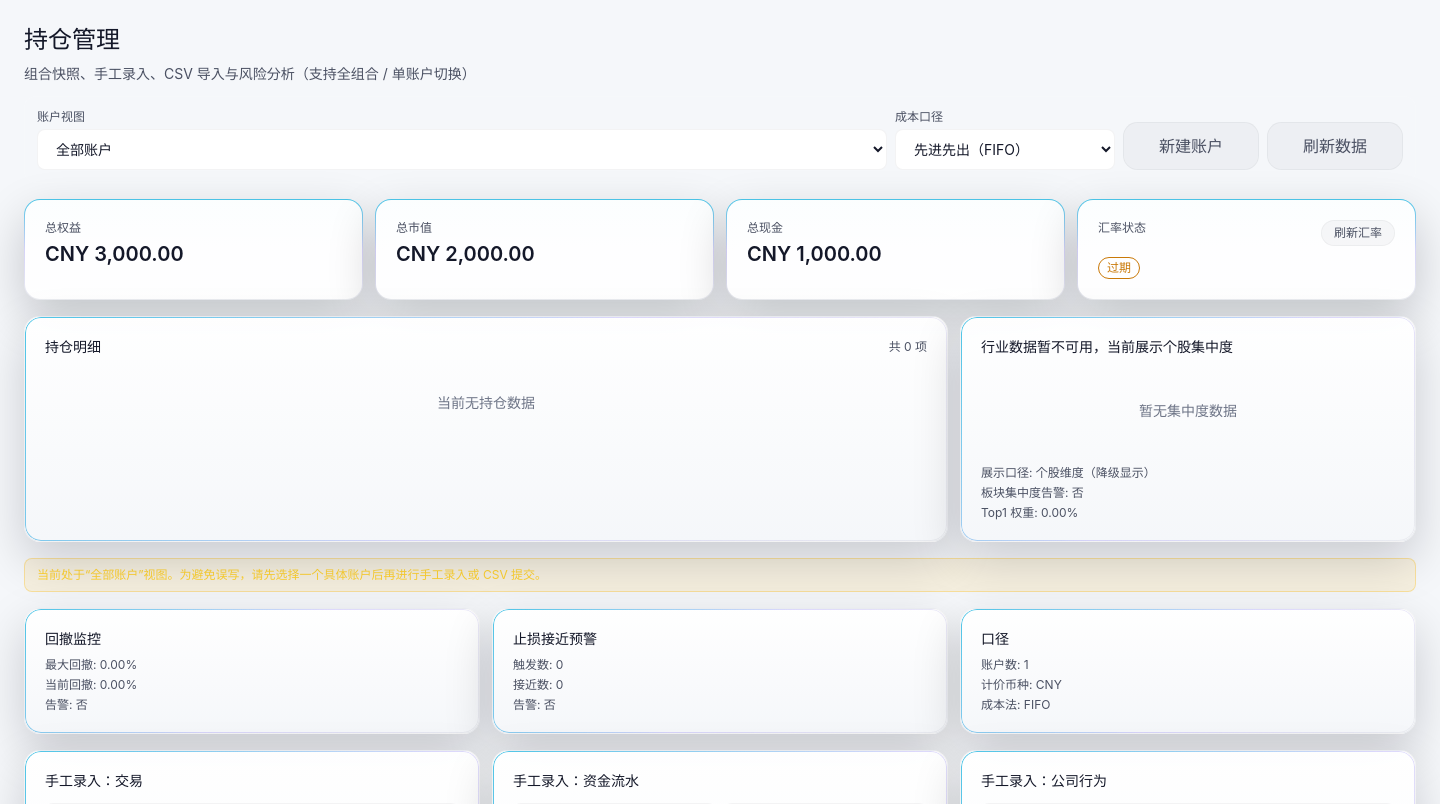
Test case: PortfolioPage FX refresh › restores the button state and shows the existing error alert when FX refresh fails
This screenshot has width=1440, height=804.
Click the button "刷新汇率" at (1358, 233), box [1321, 220, 1395, 246]
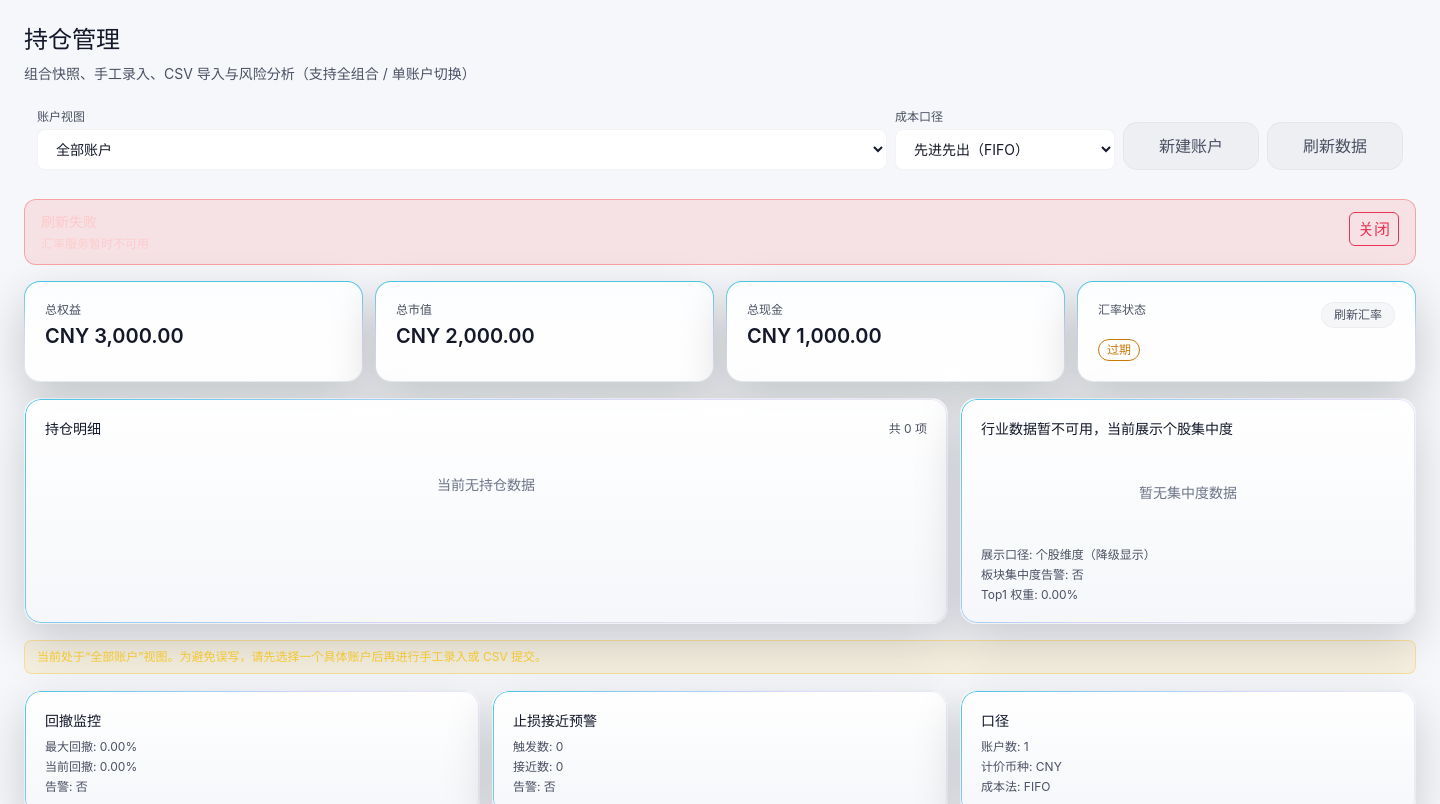
Expected: the button "刷新汇率" is enabled, [1321, 302, 1395, 328]
Result: the message shows "刷新失败" at [41, 213, 97, 230]
Result: the message shows "汇率服务暂时不可用" at [41, 236, 149, 251]
